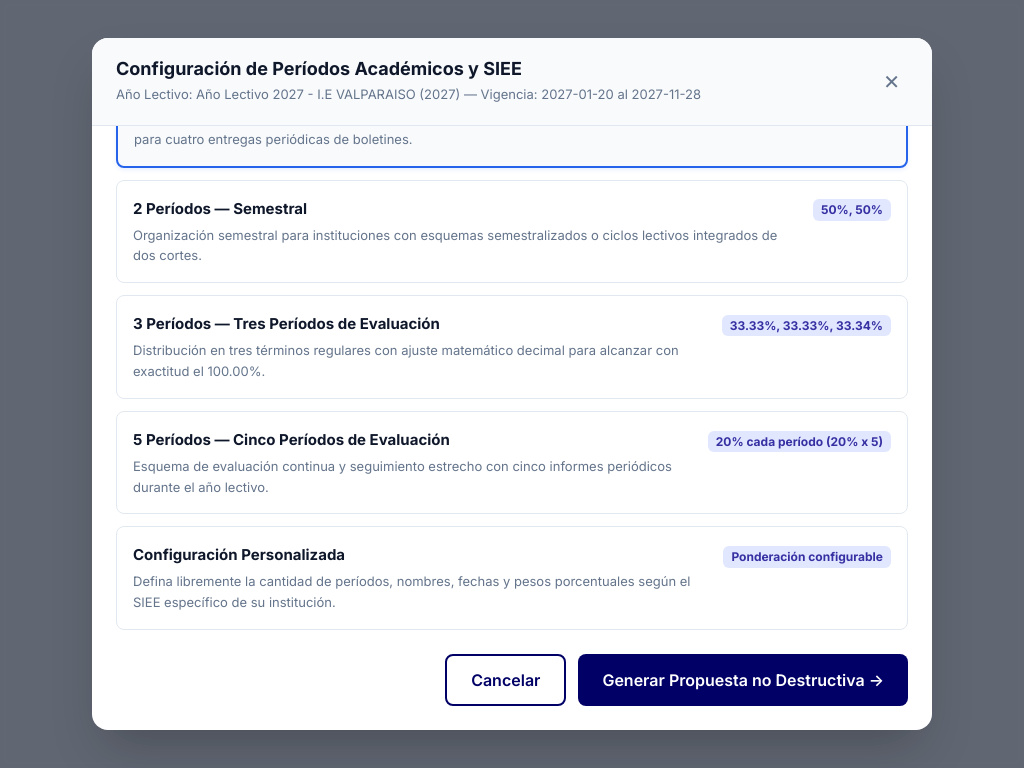
Scenario: NTA-10-R7: Academic Period Templates & SIEE Configuration Wizard › previews template and identifies existing periods non-destructively in Step 2
(page scrolled)
# Click on "Generar Propuesta no Destructiva →"
Click the button "Generar Propuesta no Destructiva →".
click(743, 680)  # box [578, 654, 908, 706]
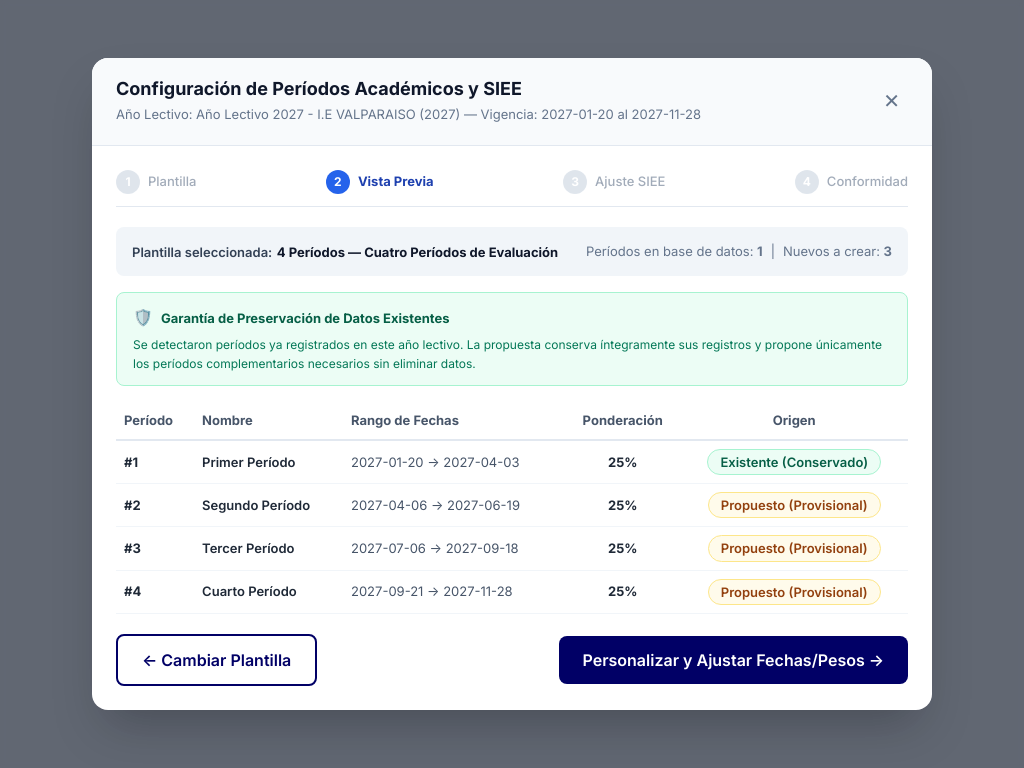
Check: the text "Garantía de Preservación de Datos Existentes" is shown, box [161, 308, 450, 328]
Check: the text "Períodos en base de datos: 1" is shown, box [586, 241, 763, 262]
Check: the text "Existente (Conservado)" is shown, box [708, 449, 881, 475]
